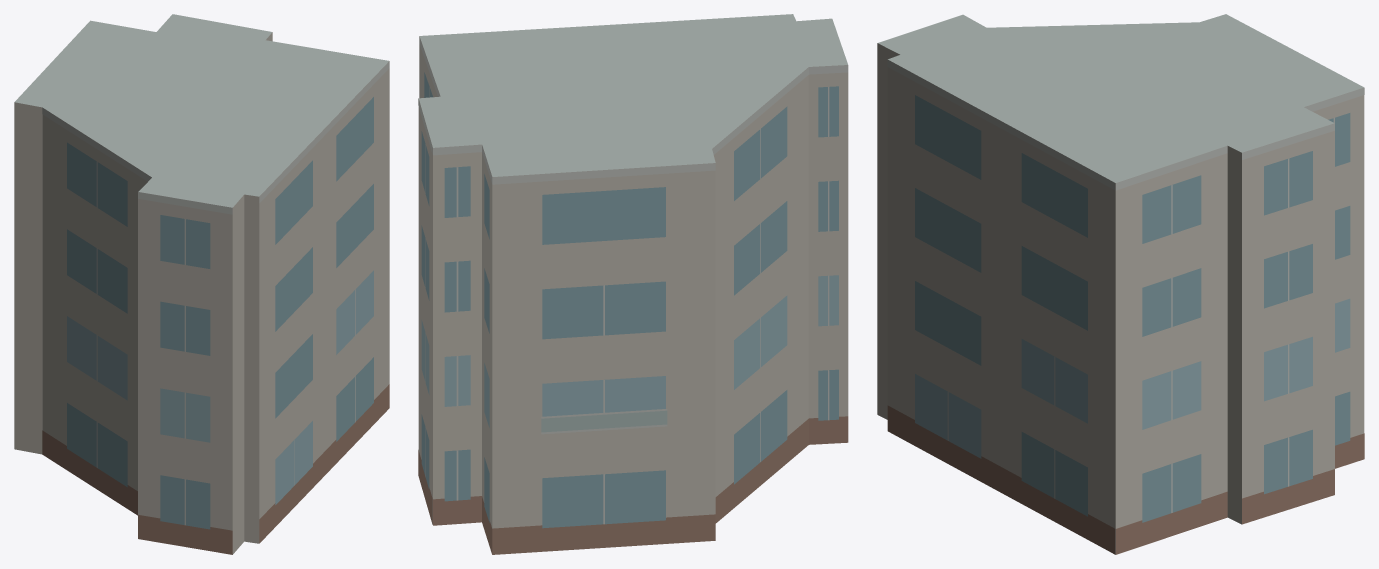
Rendered from survey-upis-32917121.glb.
The picture shows the model from 3 angles, left to right: view 1: azimuth 30°, elevation 25°; view 2: azimuth 150°, elevation 25°; view 3: azimuth 270°, elevation 25°; orthographic projection. The views are drawn at different scales.
Parts seen in each view (by area): view 1: survey-upis-32917121.tmp; view 2: survey-upis-32917121.tmp; view 3: survey-upis-32917121.tmp.
Boxes of the visible parts, x1=… form: survey-upis-32917121.tmp: x1=14, y1=14, x2=389, y2=554; survey-upis-32917121.tmp: x1=418, y1=14, x2=848, y2=554; survey-upis-32917121.tmp: x1=877, y1=14, x2=1364, y2=554.
Size of the model in its own units: 11.92 by 12.2 by 14.49.
